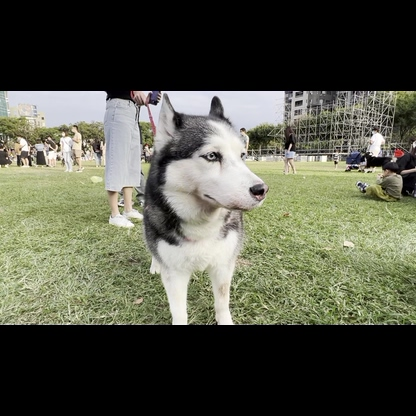husky: (134, 93, 272, 324)
